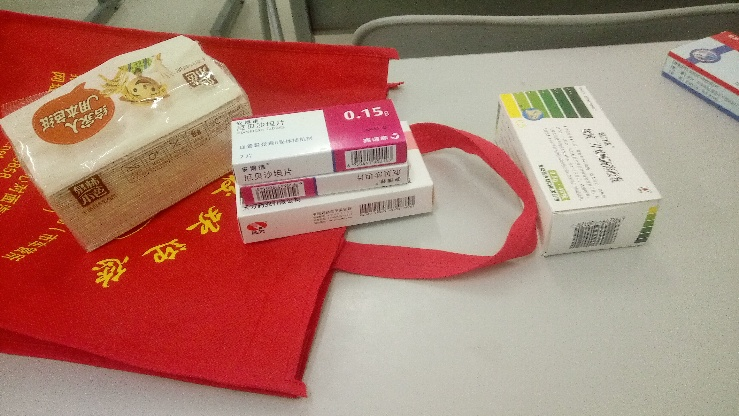pillbox: (497, 86, 658, 256), (234, 100, 406, 171), (239, 190, 434, 242), (241, 165, 412, 207)
